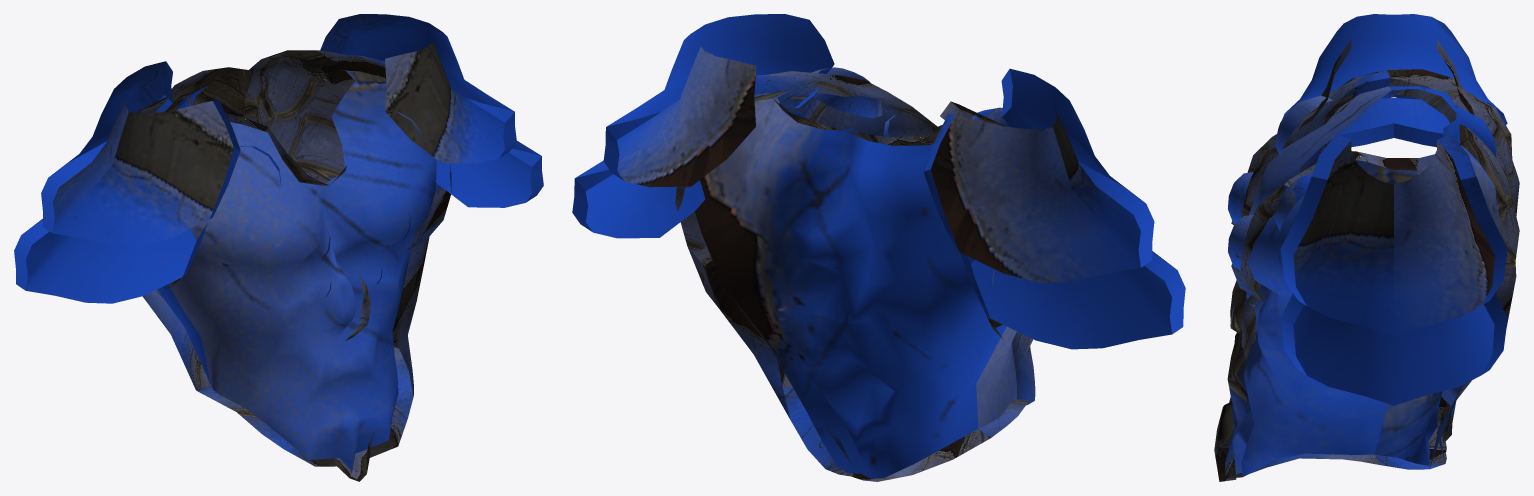
The model's file is armour_small.gltf.
3 views of the same model, side by side, from view 1: azimuth 30°, elevation 25°; view 2: azimuth 150°, elevation 25°; view 3: azimuth 270°, elevation 25° (orthographic). The views are drawn at different scales.
Parts seen in each view (by area): view 1: armour_small; view 2: armour_small; view 3: armour_small.
Part boxes in pixels (x1=…): armour_small: x1=14, y1=14, x2=543, y2=481; armour_small: x1=572, y1=14, x2=1185, y2=481; armour_small: x1=1214, y1=14, x2=1519, y2=481.
Size of the model in its own units: 1.29 by 0.8522 by 0.599.
Materials: 1 (1 with a texture image).
